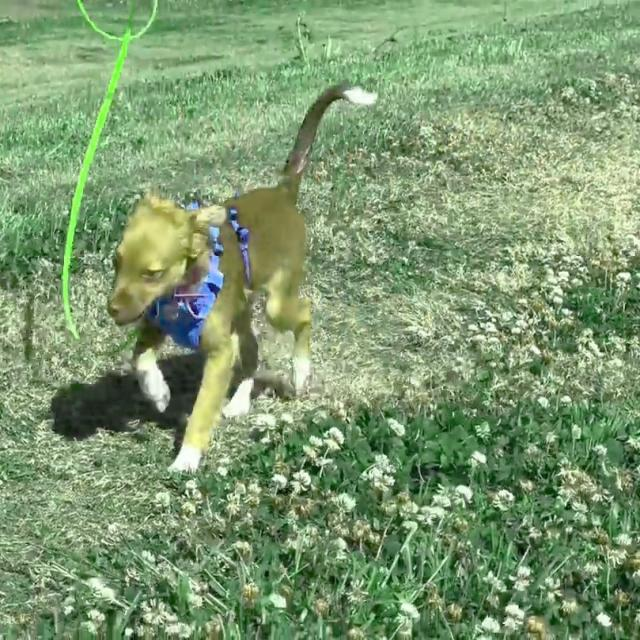Dog: (109, 84, 379, 472)
